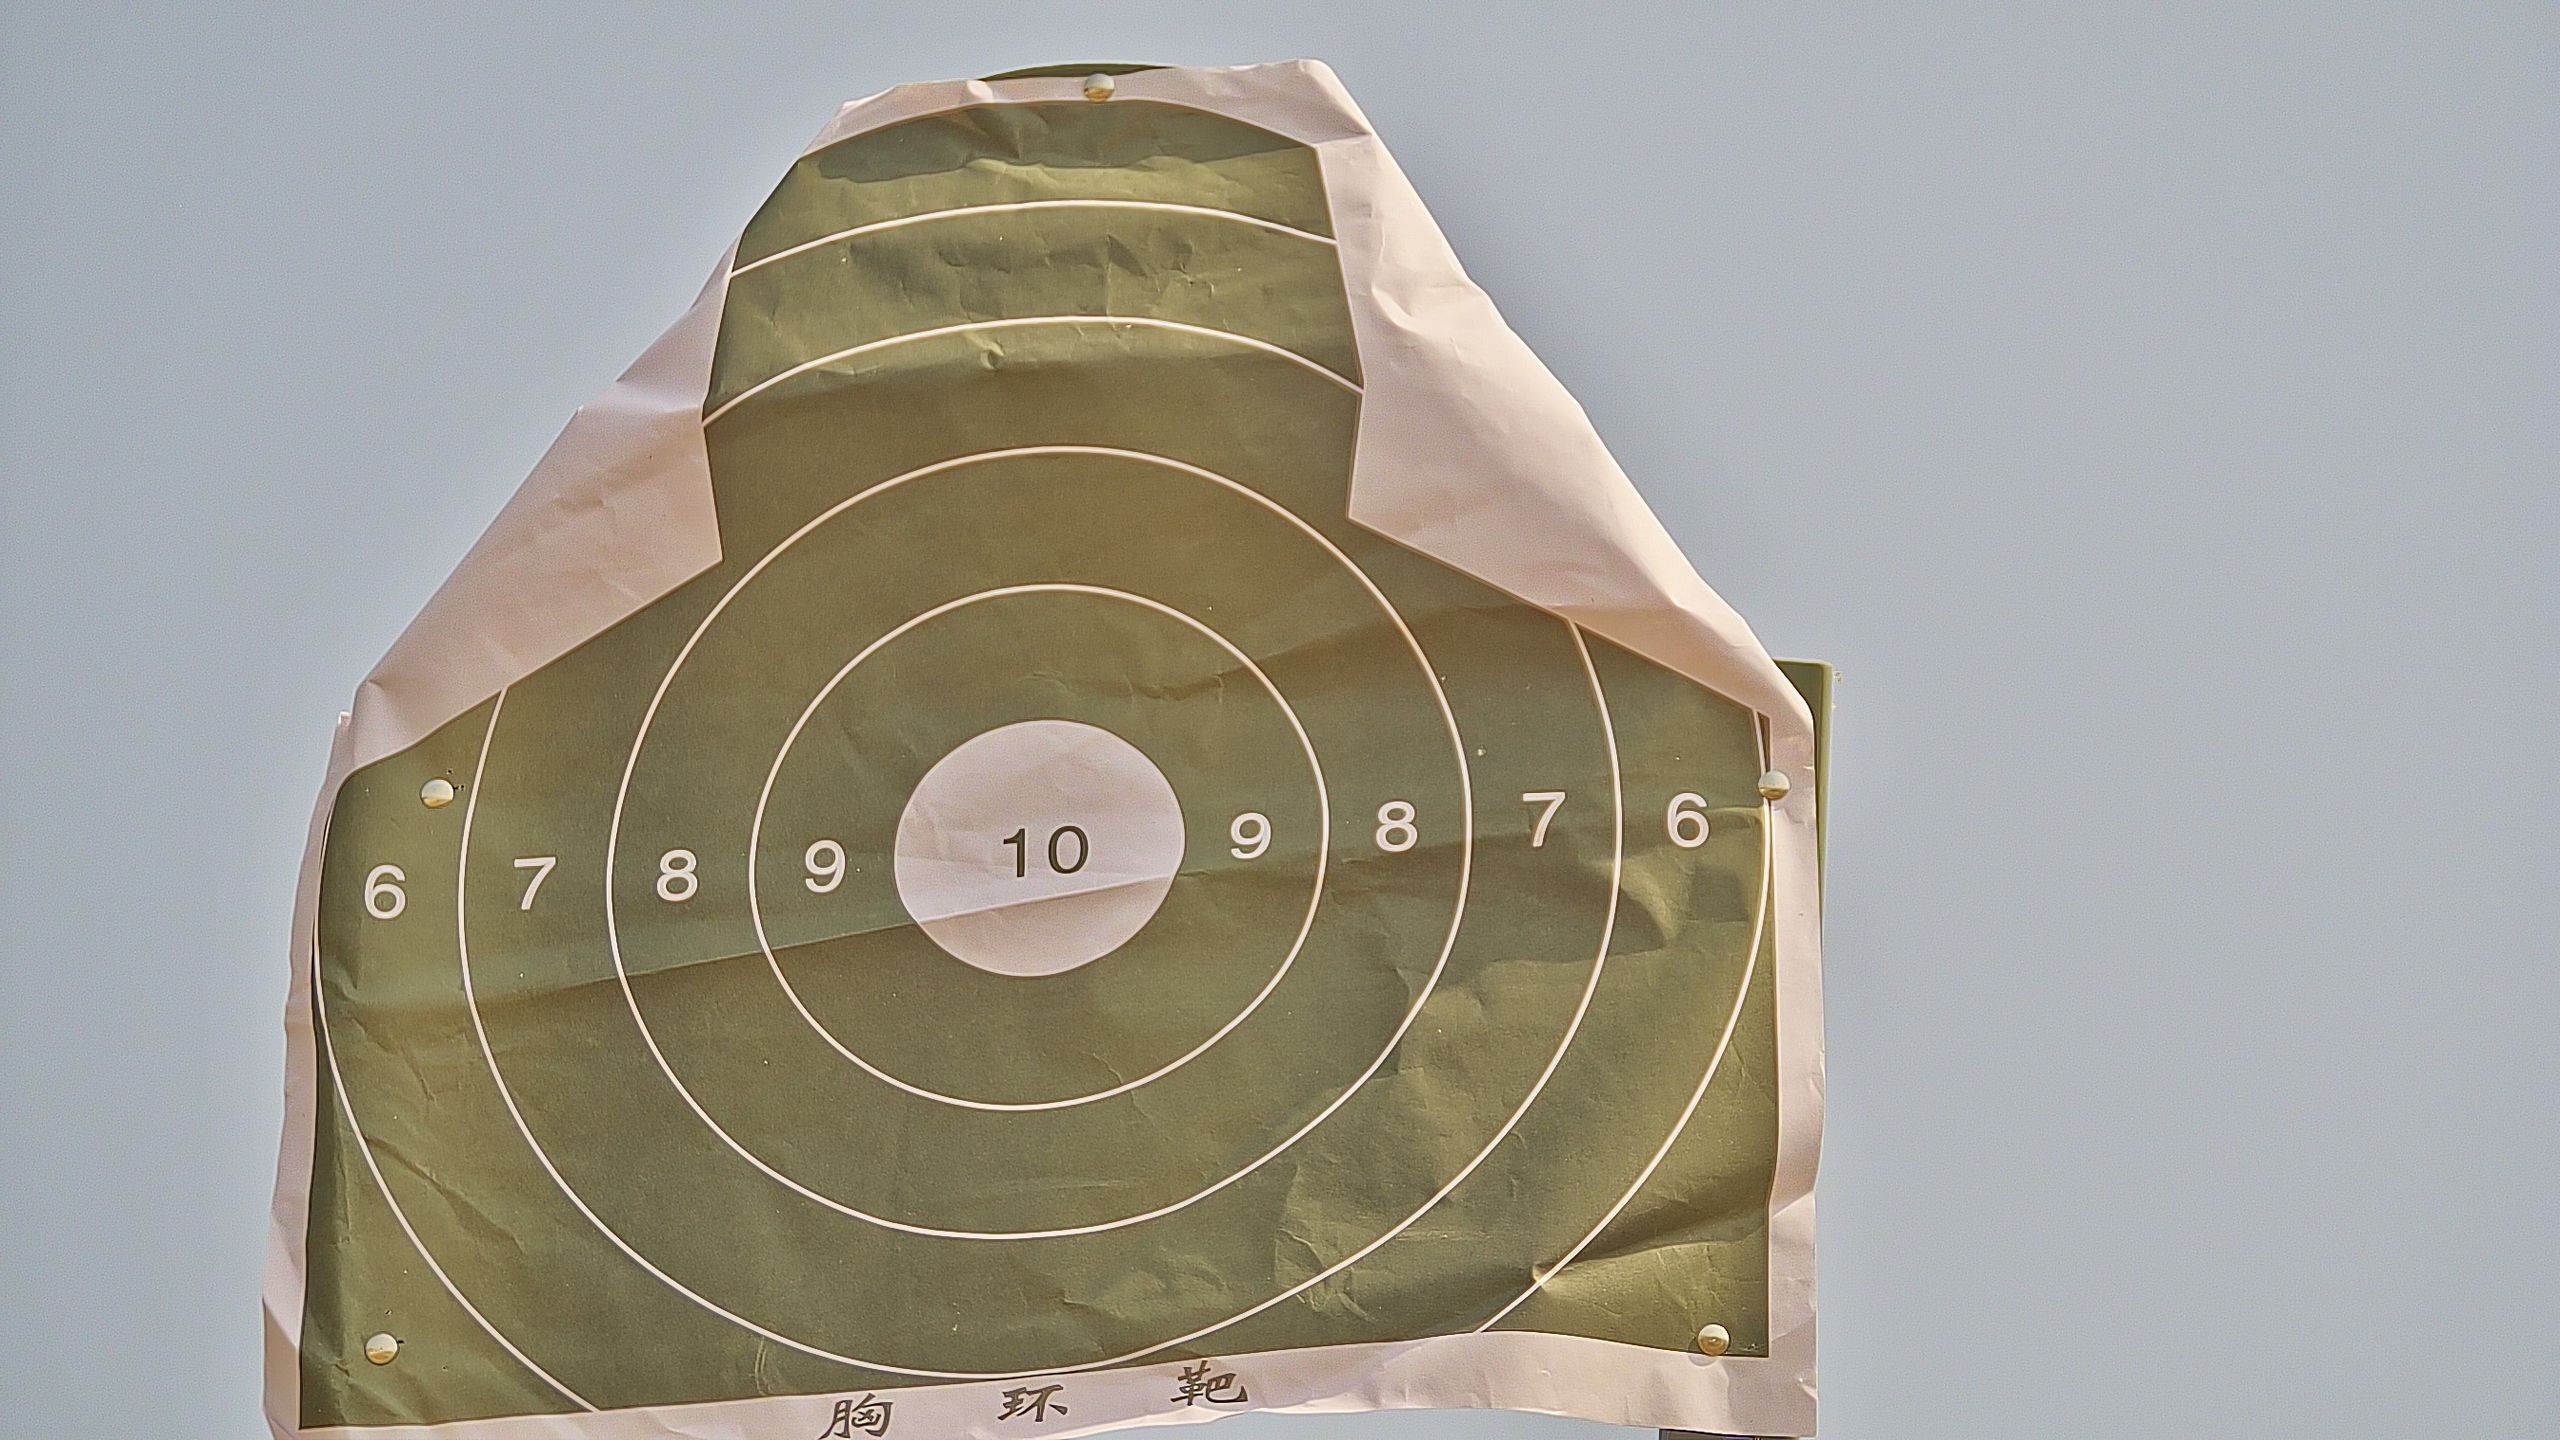kernel: (1034, 849, 1037, 851)
target: (297, 107, 1786, 1440)
ten: (893, 719, 1182, 976)
